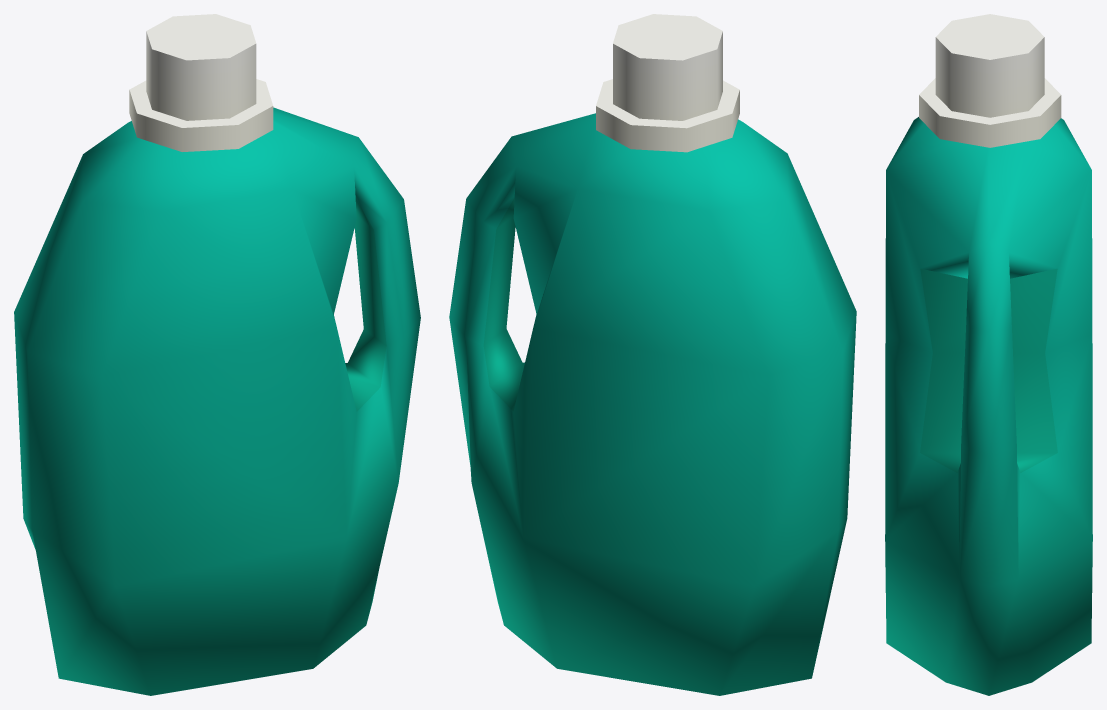
Rendered from LaundryDetergent_XL_Laundromat.fbx.
3 views of the same model, side by side, from view 1: azimuth 30°, elevation 25°; view 2: azimuth 150°, elevation 25°; view 3: azimuth 270°, elevation 25° (orthographic). The views are drawn at different scales.
Visible parts, largest first — view 1: LaundryDetergent_XL.Laundromat, LaundryDetergent_XL_Cap.Laundromat; view 2: LaundryDetergent_XL.Laundromat, LaundryDetergent_XL_Cap.Laundromat; view 3: LaundryDetergent_XL.Laundromat, LaundryDetergent_XL_Cap.Laundromat.
Part boxes in pixels (left/top/right/bottom): LaundryDetergent_XL.Laundromat: left=14, top=107, right=420, bottom=695; LaundryDetergent_XL_Cap.Laundromat: left=129, top=14, right=273, bottom=151; LaundryDetergent_XL.Laundromat: left=449, top=113, right=856, bottom=695; LaundryDetergent_XL_Cap.Laundromat: left=596, top=14, right=739, bottom=152; LaundryDetergent_XL.Laundromat: left=885, top=117, right=1092, bottom=695; LaundryDetergent_XL_Cap.Laundromat: left=919, top=14, right=1061, bottom=147.
Bounding box in the file's own units: 51.17 × 75.37 × 24.49.
Materials: 1 (1 with a texture image).
